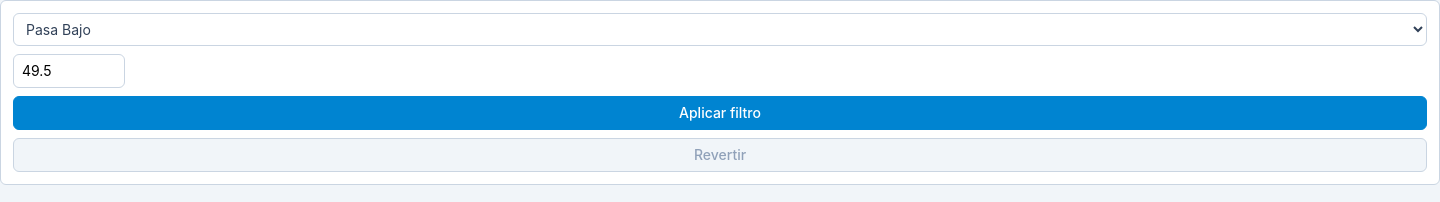
Test case: FilterPanel › AC-04: seleccionar "Media Móvil"/"Mediana Móvil" muestra la ventana prellenada con 5/7
This screenshot has width=1440, height=202.
Select "Media Móvil" in the dropdown named "Tipo de filtro": (720, 30) [13, 13, 1427, 46]
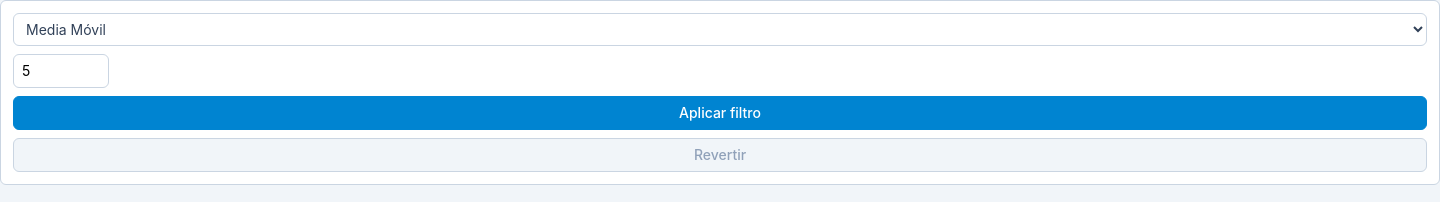
Now the number field named "Ventana" holds "5", box [13, 54, 109, 88]
Select "Mediana Móvil" in the dropdown named "Tipo de filtro": (720, 30) [13, 13, 1427, 46]
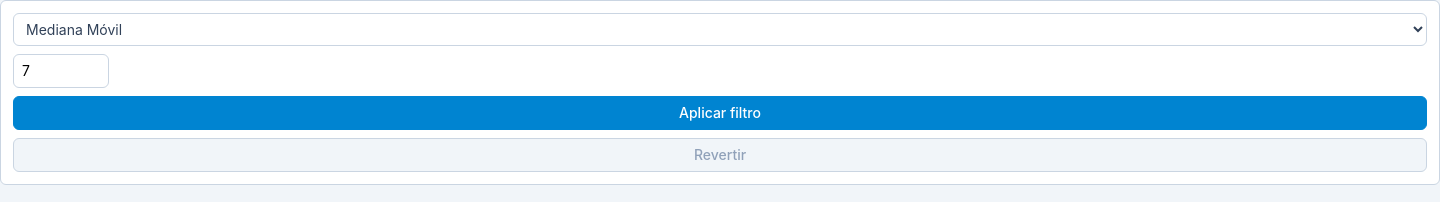
Now the number field named "Ventana" holds "7", box [13, 54, 109, 88]
